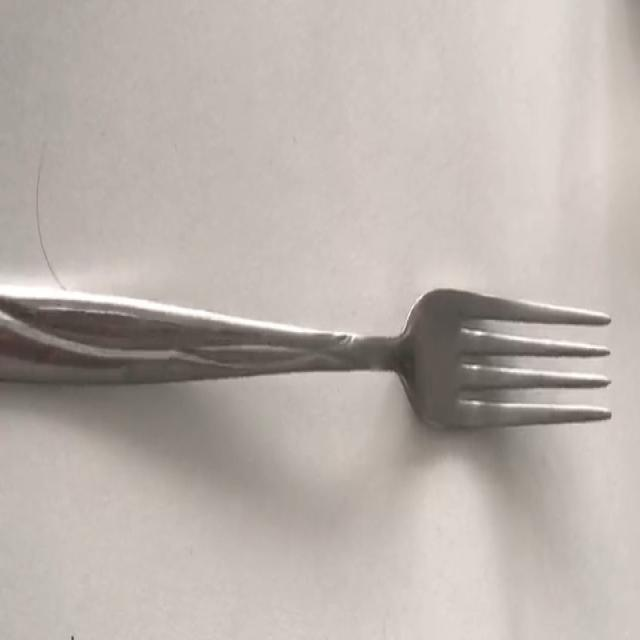spoon: (0, 288, 610, 428)
